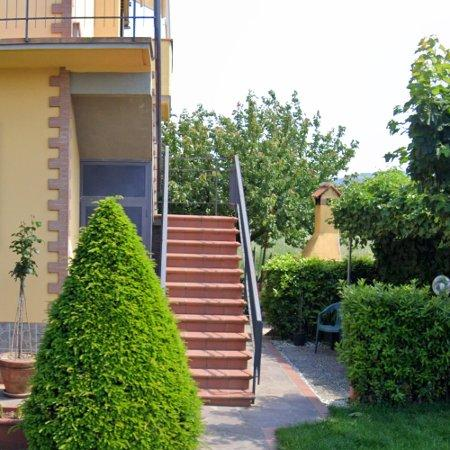stairs: (167, 215, 255, 406)
